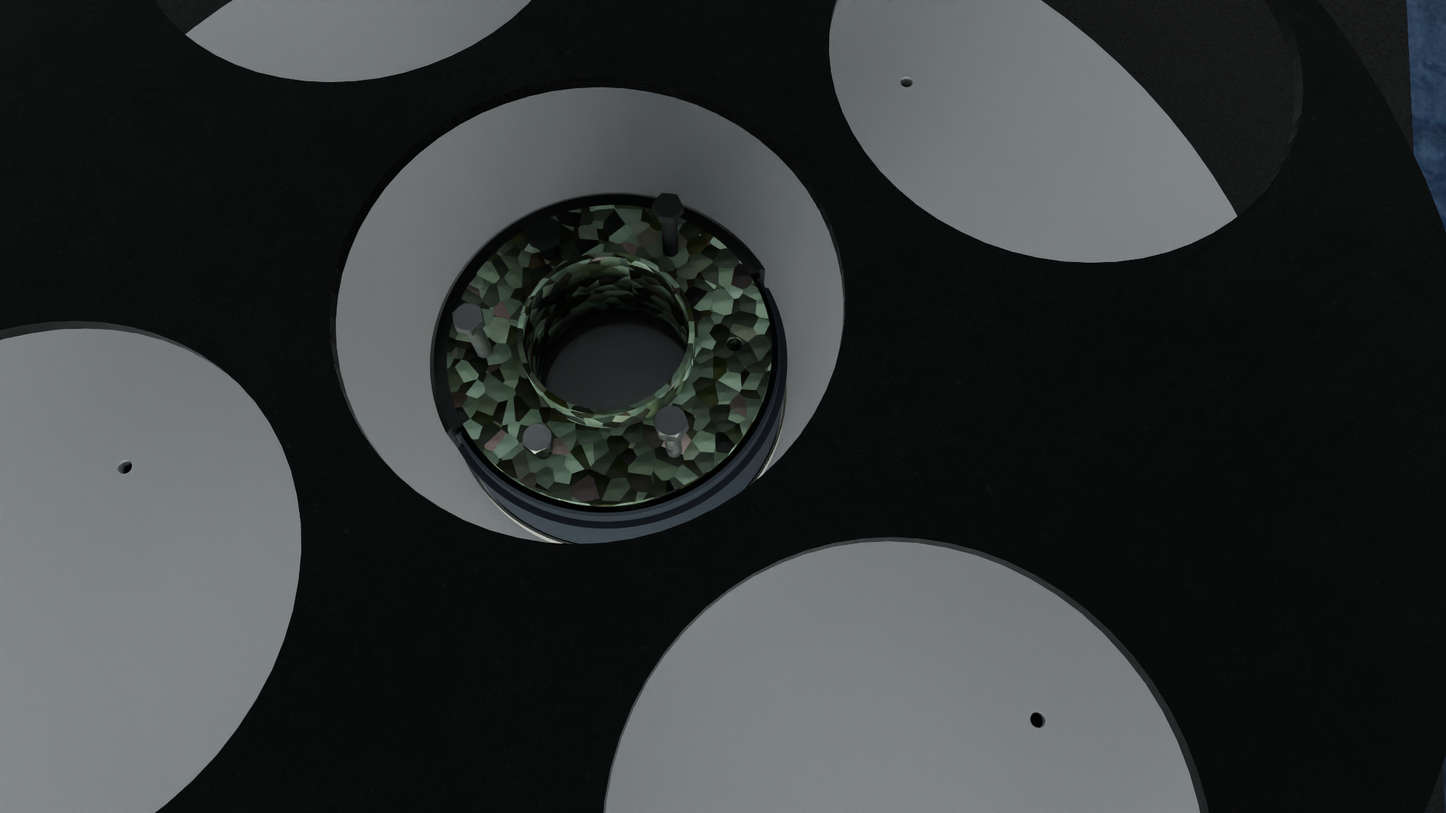bolt: (653, 406, 688, 438), (528, 215, 560, 247), (522, 423, 553, 454), (452, 303, 484, 332), (652, 193, 683, 218)
